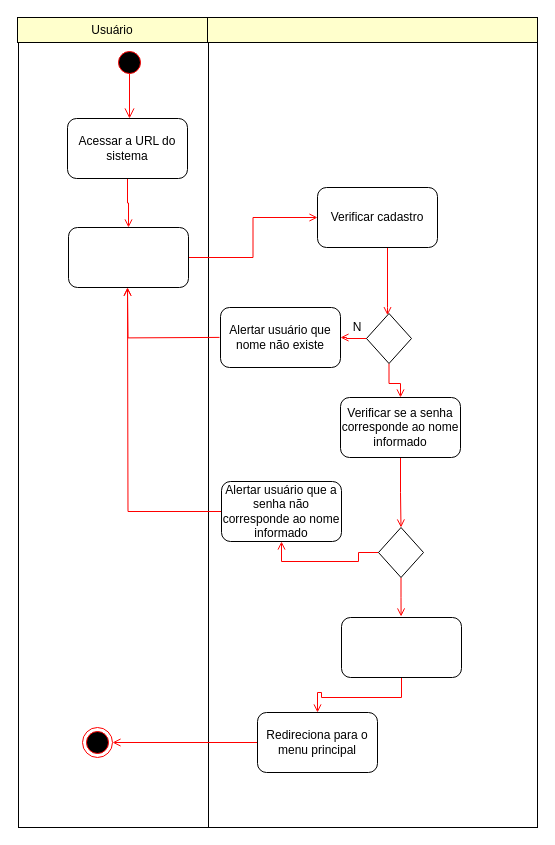
Some shapes in this 555 by 845 pixel diagram are drawn without their labels. The box of each missing label's shape, as (x1, y1, x2, y2) in pixels:
MEEPS: (206, 16, 538, 42)
Preencher usuário e senha: (68, 226, 188, 288)
Sessão iniciada: (340, 616, 462, 678)
